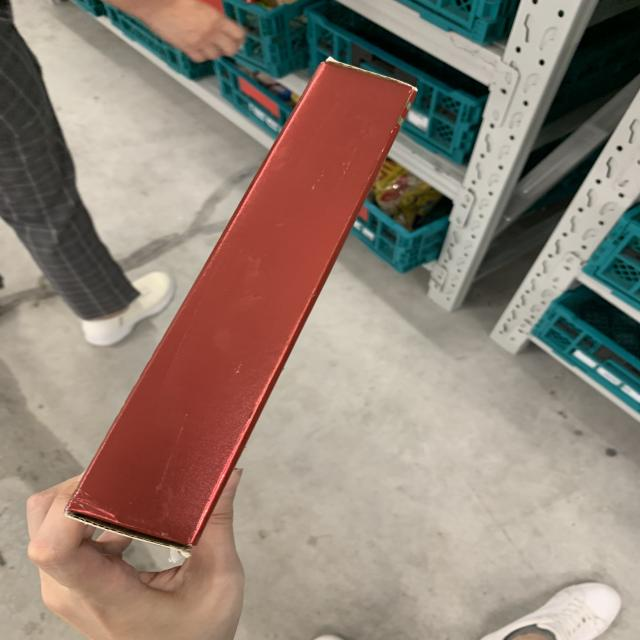object_name: (180, 61, 406, 526)
